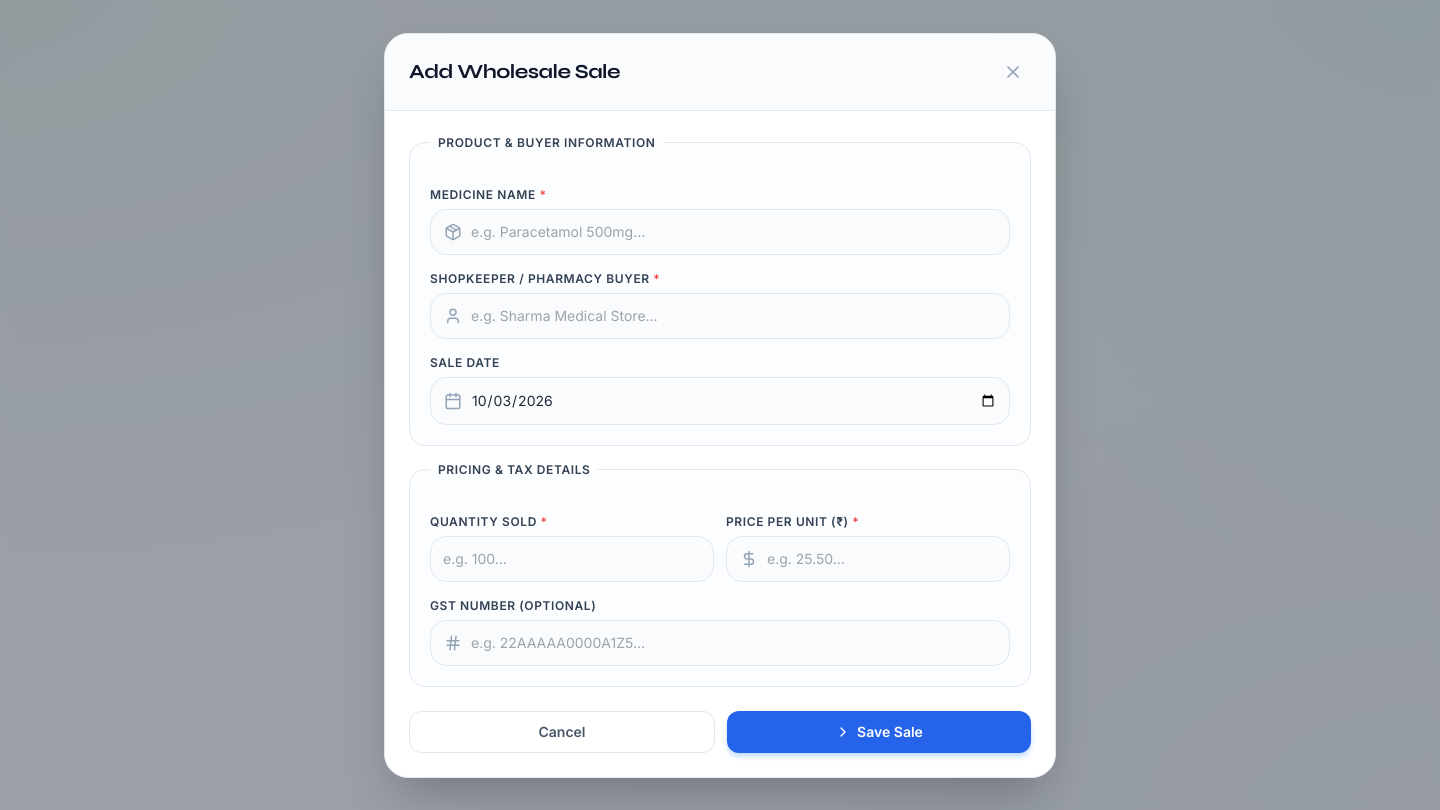
Scenario: components/suppliers/WholesaleSaleModal.jsx › validates GST number format and shows error message for invalid GST
In the field labelled "GST Number (Optional)": (720,642) [430,620,1010,666], type "INVALID_GST"
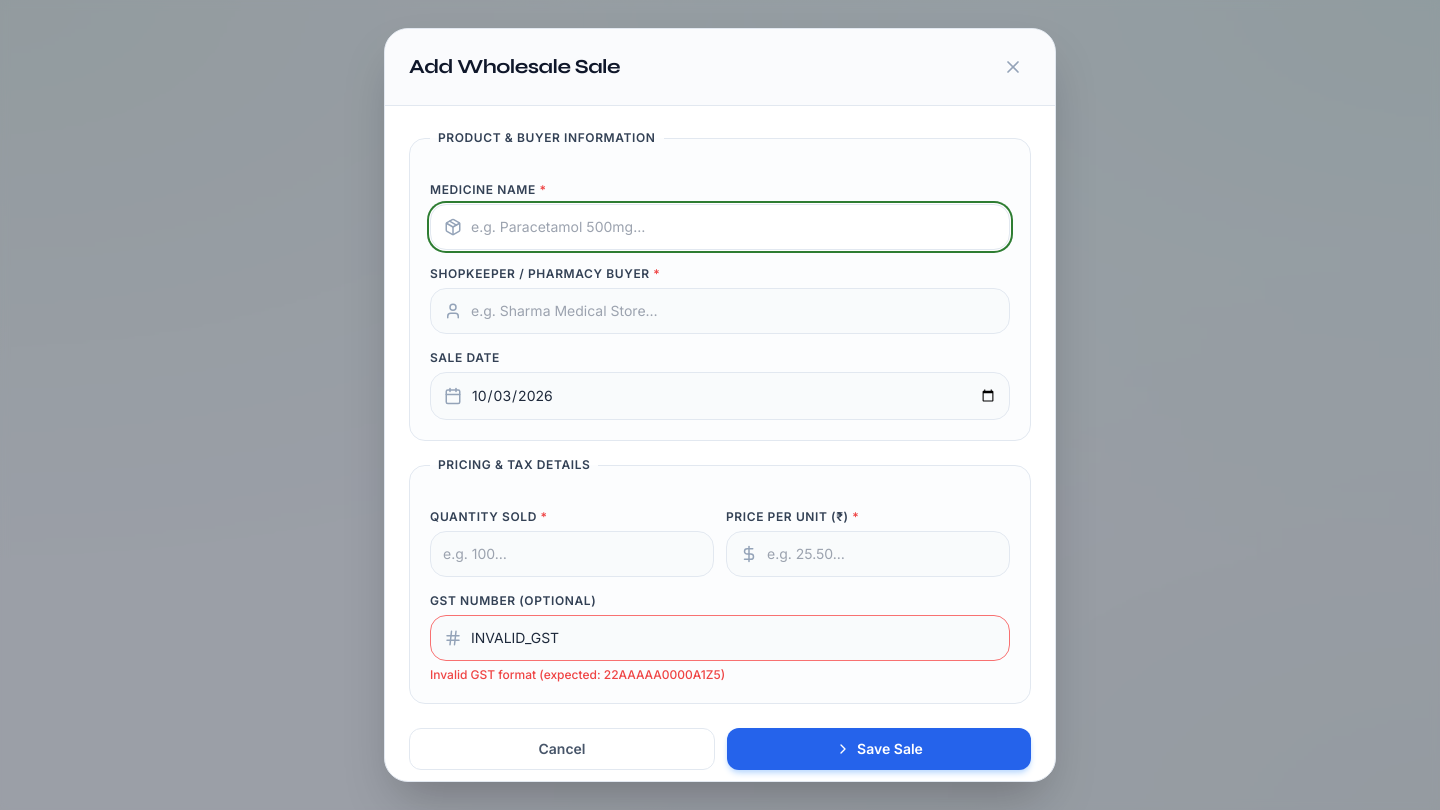
Expected: the text "Invalid GST format (expected: 22AAAAA0000A1Z5)" is shown, [430,667,725,682]
